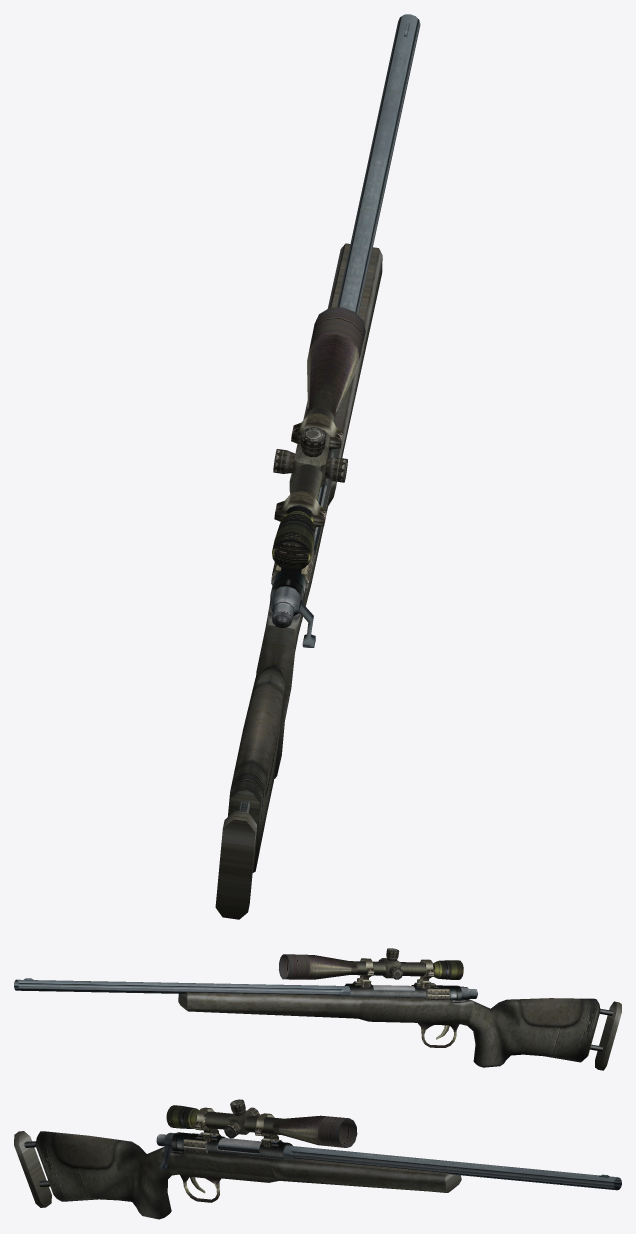
3 renders of one model, top to bottom at view 1: azimuth 30°, elevation 25°; view 2: azimuth 150°, elevation 25°; view 3: azimuth 270°, elevation 25°, orthographic. The views are drawn at different scales.
Parts seen in each view (by area): view 1: _m24_1st; view 2: _m24_1st; view 3: _m24_1st.
Part boxes in pixels (x1=…): _m24_1st: x1=215, y1=14, x2=420, y2=919; _m24_1st: x1=14, y1=948, x2=621, y2=1070; _m24_1st: x1=14, y1=1099, x2=621, y2=1219.
Size of the model in its own units: 0.8582 by 0.4389 by 1.11.
Materials: 2 (2 with a texture image).
